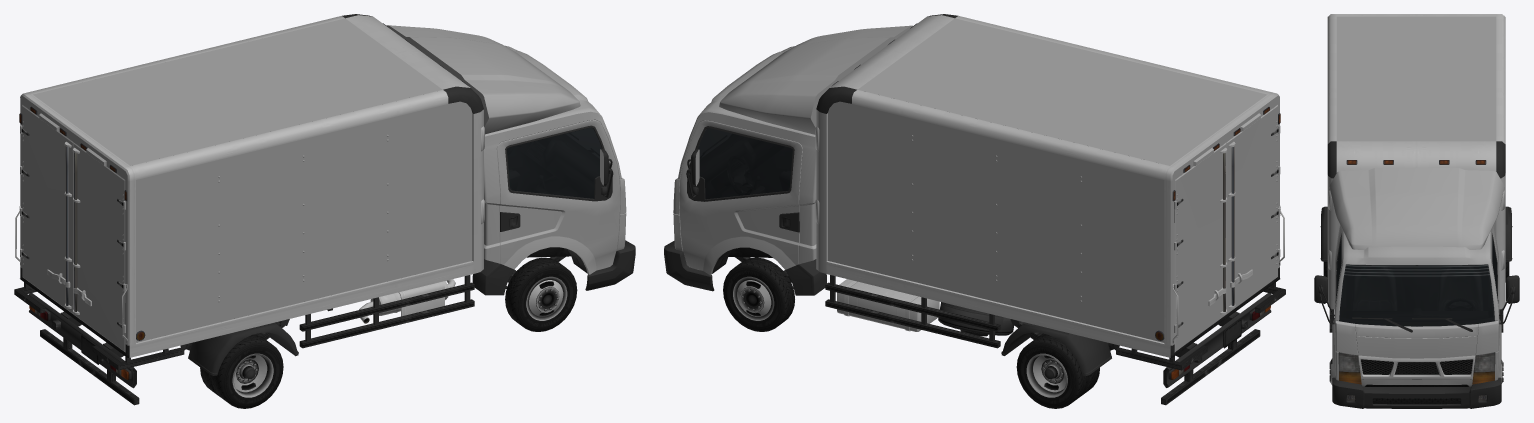
The model's file is camion-blender.glb.
3 renders of one model, left to right at view 1: azimuth 30°, elevation 25°; view 2: azimuth 150°, elevation 25°; view 3: azimuth 270°, elevation 25°, orthographic. The views are drawn at different scales.
Parts seen in each view (by area): view 1: LCT300007_Body_LCT13_07_Bodymat_0, LCT300007_Bottom_UCB_BOTTOM_0, LCT300007_Reardoor_Left_LCT13_07_Bodymat_0, LCT300007_Reardoor_Right_LCT13_07_Bodymat_0, LCT300007_Glass_Driver_UCB_Lights_and_Glass_Transperent_0, LCT300007_interior_UCB_Interiors_2_0, wheel_fr_rueda, wheel_rr_rueda, LCT300007_Bumper_rear_UCB_BOTTOM_0, LCT300007_BUMPER_FRONT_UCB_BOTTOM_0, LCT300007_Reardoor_Left_Inner_UCB_BOTTOM_0, LCT300007_Reardoor_Right_Inner_UCB_BOTTOM_0; view 2: LCT300007_Body_LCT13_07_Bodymat_0, LCT300007_Bottom_UCB_BOTTOM_0, LCT300007_Reardoor_Right_LCT13_07_Bodymat_0, LCT300007_Reardoor_Left_LCT13_07_Bodymat_0, LCT300007_Glass_Driver_UCB_Lights_and_Glass_Transperent_0.00, wheel_fl_rueda, wheel_rl_rueda, LCT300007_interior_UCB_Interiors_2_0, LCT300007_Bumper_rear_UCB_BOTTOM_0, LCT300007_BUMPER_FRONT_UCB_BOTTOM_0, LCT300007_Reardoor_Right_Inner_UCB_BOTTOM_0, LCT300007_Reardoor_Left_Inner_UCB_BOTTOM_0 (+1 smaller); view 3: LCT300007_Body_LCT13_07_Bodymat_0, LCT300007_Bottom_UCB_BOTTOM_0, windshield, LCT300007_interior_UCB_Interiors_2_0, LCT300007_BUMPER_FRONT_UCB_BOTTOM_0, LCT300007_Headlight_Glass_UCB_Lights_and_Glass_Transperent_0, LCT300007_BUMPER_FRONT_INNER_UCB_BOTTOM_0, LCT300007_Taillights_Glass_UCB_Lights_and_Glass_Transperent_, LCT300007_Blinkers_UCB_Lights_and_Glass_0, headlight_l, headlight_r, LCT300007_Steering_Wheel_UCB_Interiors_2_0.
Boxes of the visible parts, x1,y1,x2,y2 form: LCT300007_Body_LCT13_07_Bodymat_0: (20,18,626,345); LCT300007_Bottom_UCB_BOTTOM_0: (14,14,613,405); LCT300007_Reardoor_Left_LCT13_07_Bodymat_0: (22,105,73,314); LCT300007_Reardoor_Right_LCT13_07_Bodymat_0: (73,143,125,352); LCT300007_Glass_Driver_UCB_Lights_and_Glass_Transperent_0: (507,128,601,198); LCT300007_interior_UCB_Interiors_2_0: (508,134,599,198); wheel_fr_rueda: (505,257,577,331); wheel_rr_rueda: (200,333,283,408); LCT300007_Bumper_rear_UCB_BOTTOM_0: (28,293,136,388); LCT300007_BUMPER_FRONT_UCB_BOTTOM_0: (585,240,635,290); LCT300007_Reardoor_Left_Inner_UCB_BOTTOM_0: (21,128,71,308); LCT300007_Reardoor_Right_Inner_UCB_BOTTOM_0: (73,147,123,327); LCT300007_Body_LCT13_07_Bodymat_0: (673,18,1280,345); LCT300007_Bottom_UCB_BOTTOM_0: (686,14,1285,405); LCT300007_Reardoor_Right_LCT13_07_Bodymat_0: (1226,105,1277,314); LCT300007_Reardoor_Left_LCT13_07_Bodymat_0: (1174,143,1226,352); LCT300007_Glass_Driver_UCB_Lights_and_Glass_Transperent_0.00: (698,128,792,199); wheel_fl_rueda: (723,257,794,331); wheel_rl_rueda: (1016,333,1099,408); LCT300007_interior_UCB_Interiors_2_0: (700,134,791,198); LCT300007_Bumper_rear_UCB_BOTTOM_0: (1163,293,1271,387); LCT300007_BUMPER_FRONT_UCB_BOTTOM_0: (664,241,714,291); LCT300007_Reardoor_Right_Inner_UCB_BOTTOM_0: (1228,128,1278,308); LCT300007_Reardoor_Left_Inner_UCB_BOTTOM_0: (1177,147,1227,327); LCT300007_Body_LCT13_07_Bodymat_0: (1329,16,1504,386); LCT300007_Bottom_UCB_BOTTOM_0: (1314,14,1519,386); windshield: (1339,264,1494,326); LCT300007_interior_UCB_Interiors_2_0: (1337,242,1498,321); LCT300007_BUMPER_FRONT_UCB_BOTTOM_0: (1332,377,1501,408); LCT300007_Headlight_Glass_UCB_Lights_and_Glass_Transperent_0: (1338,352,1495,372); LCT300007_BUMPER_FRONT_INNER_UCB_BOTTOM_0: (1347,395,1486,404); LCT300007_Taillights_Glass_UCB_Lights_and_Glass_Transperent_: (1339,371,1494,384); LCT300007_Blinkers_UCB_Lights_and_Glass_0: (1339,372,1494,383); headlight_l: (1474,352,1494,371); headlight_r: (1339,352,1359,371); LCT300007_Steering_Wheel_UCB_Interiors_2_0: (1445,298,1475,310).
Bounding box in the file's own units: 5.86 × 2.84 × 2.43.
6 materials, 5 textured.
